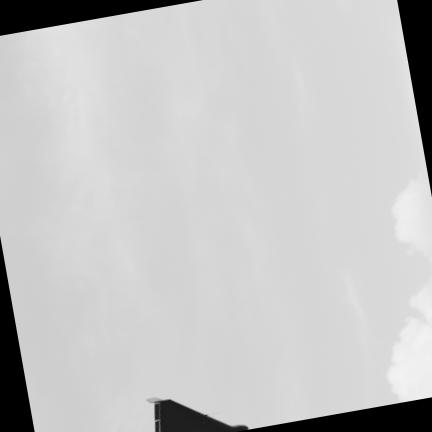Shahed: (147, 397, 248, 432)
